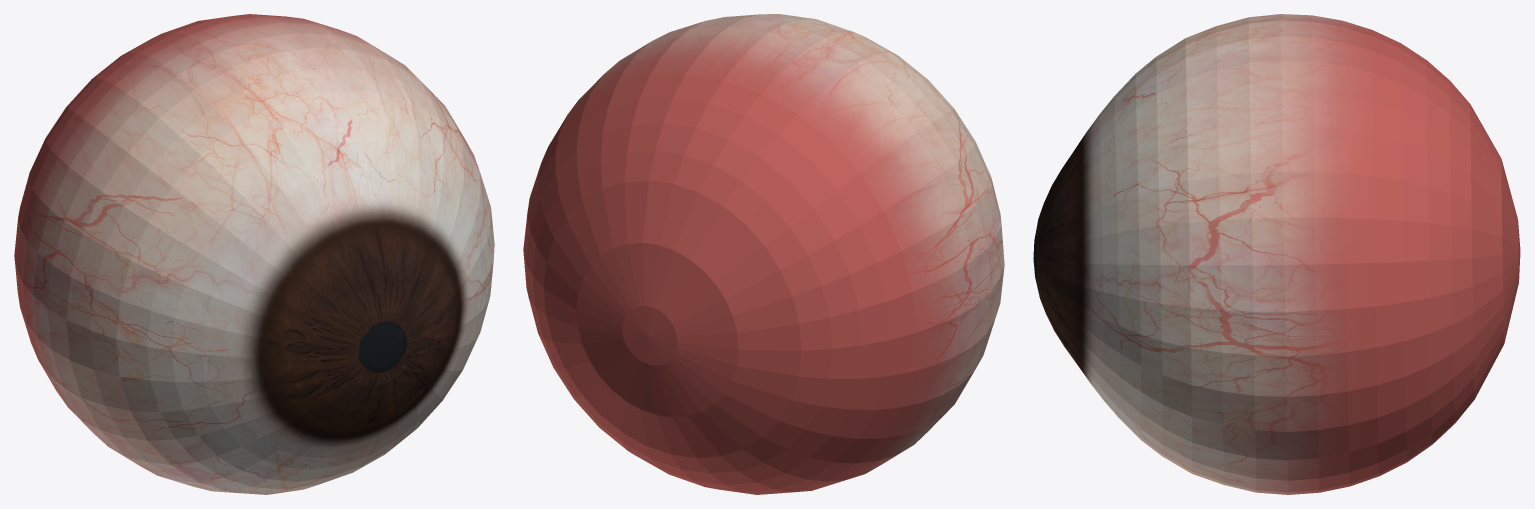
File: eyeLeft_mesh_tri.obj
3 views of the same model, side by side, from view 1: azimuth 30°, elevation 25°; view 2: azimuth 150°, elevation 25°; view 3: azimuth 270°, elevation 25° (orthographic).
Size of the model in its own units: 0.2902 by 0.2888 by 0.2923.
1 material, 1 textured.
